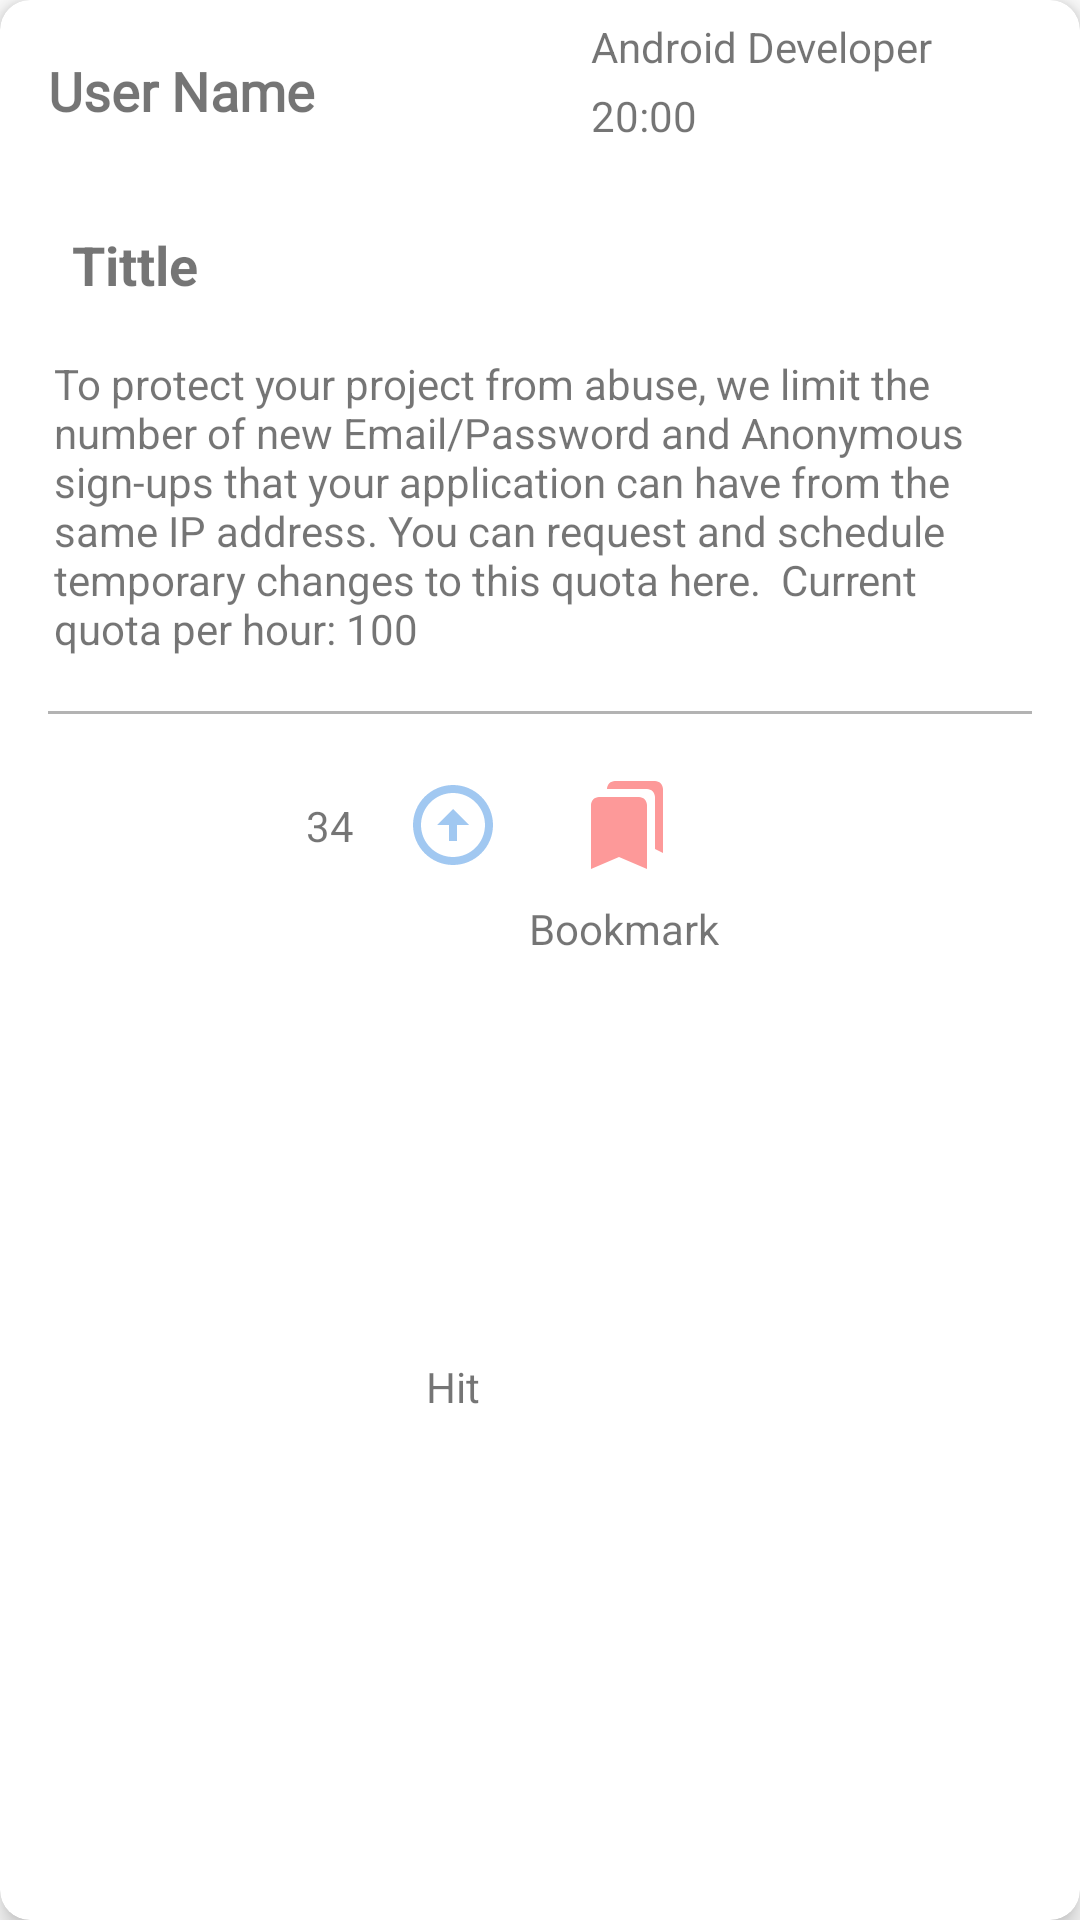

Screen size 1080*1920. Icon name, then its center in pixels as point (x, y):
arrow circle up: point (453, 825)
